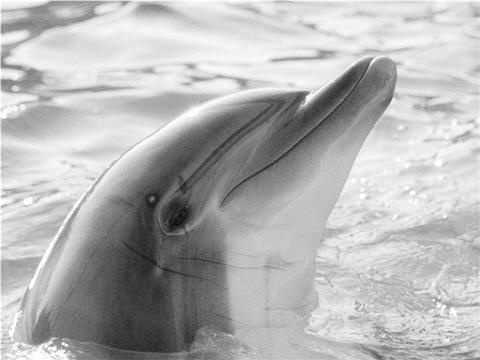fish: (13, 54, 402, 349)
